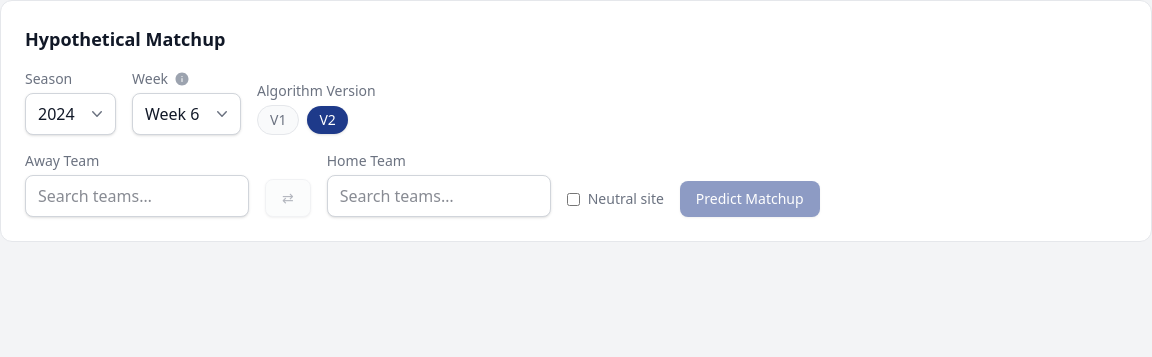
Test: ExperimentalMatchupPanel › disables the swap button for neutral-site games
This screenshot has width=1152, height=357.
Click the dropdown labelled "Away Team": (137, 196) [25,175,249,217]
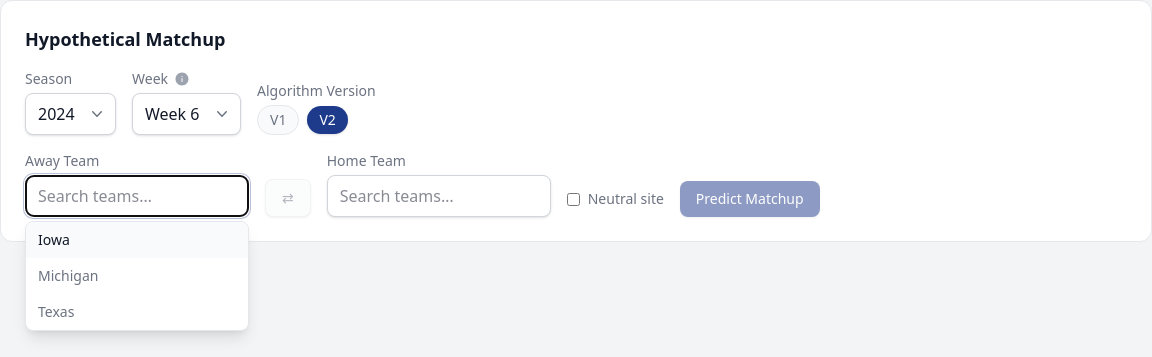
Click the option "Texas": (56, 312) [38,302,74,321]
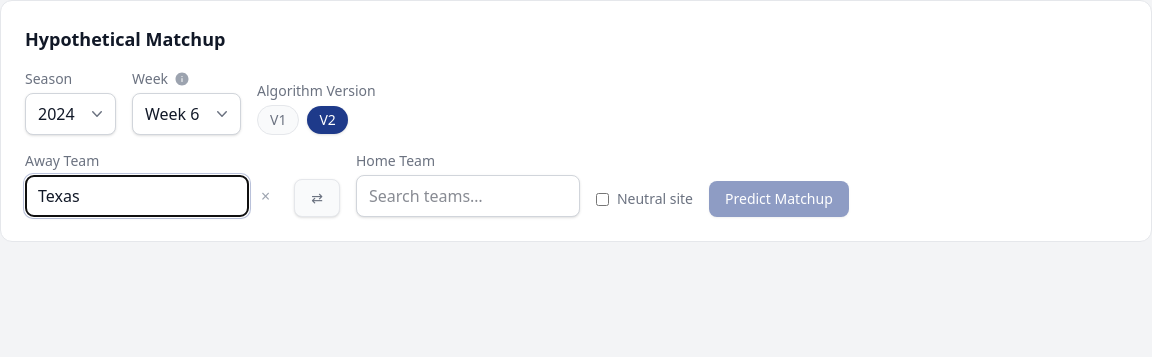
Check: the button named "Swap home and away teams" is enabled, box [294,179,340,217]
Click the checkbox labelled "Neutral site": (602, 199) [596,192,609,206]
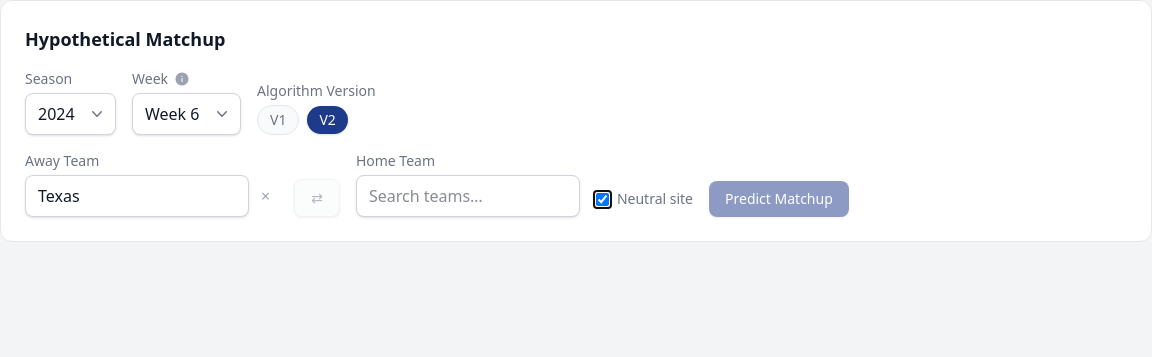
Check: the button named "Swap home and away teams" is disabled, box [294,179,340,217]
